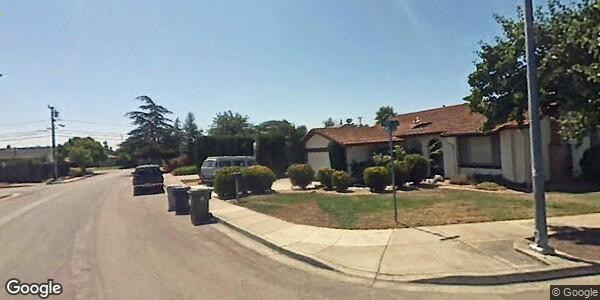Steel_Pole: (520, 1, 556, 256)
Wood_Pole: (44, 103, 62, 181)
